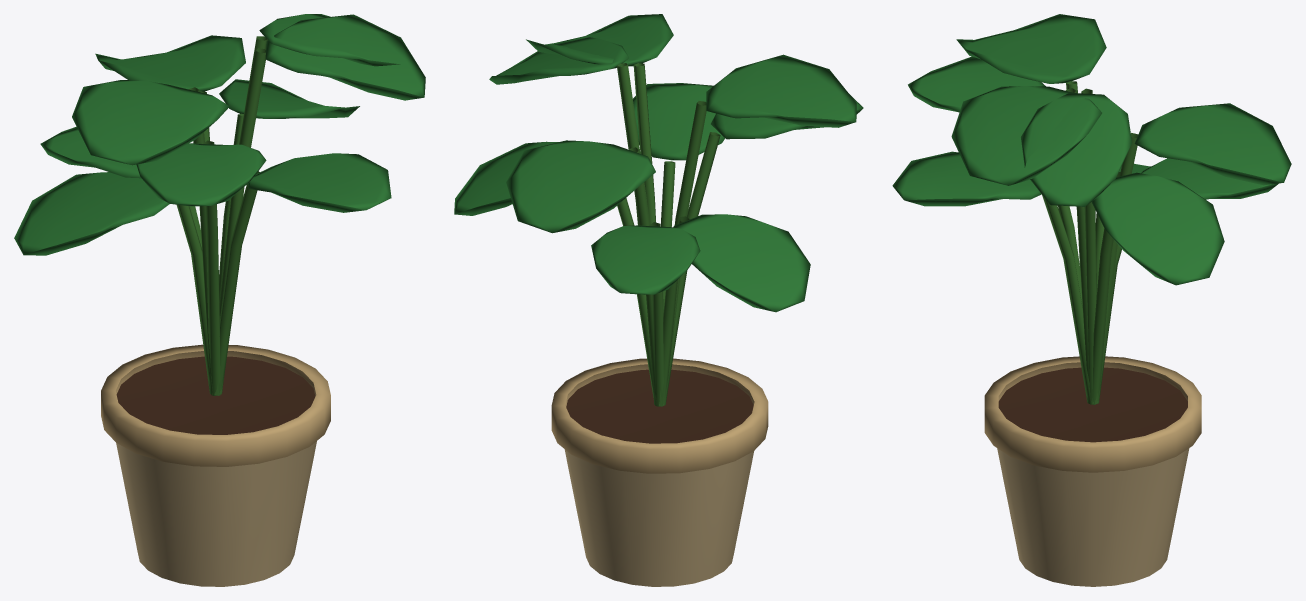
File: furn_plant_monstera.glb
3 views of the same model, side by side, from view 1: azimuth 30°, elevation 25°; view 2: azimuth 150°, elevation 25°; view 3: azimuth 270°, elevation 25° (orthographic). The views are drawn at different scales.
Parts seen in each view (by area): view 1: furn_plant_monstera_main; view 2: furn_plant_monstera_main; view 3: furn_plant_monstera_main.
Part boxes in pixels (x1,y1,x2,y2): furn_plant_monstera_main: [14, 14, 425, 586]; furn_plant_monstera_main: [454, 14, 863, 586]; furn_plant_monstera_main: [892, 14, 1291, 586].
Bounding box in the file's own units: 0.7915 × 1.08 × 0.8017.
